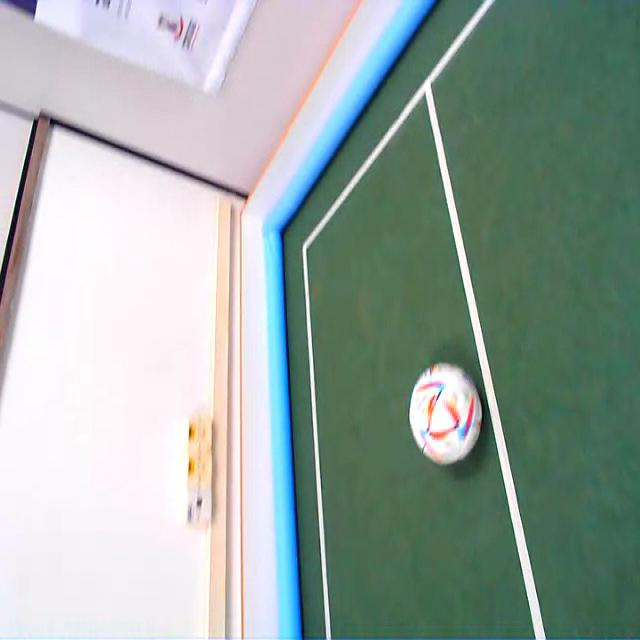ball: (410, 362, 481, 464)
